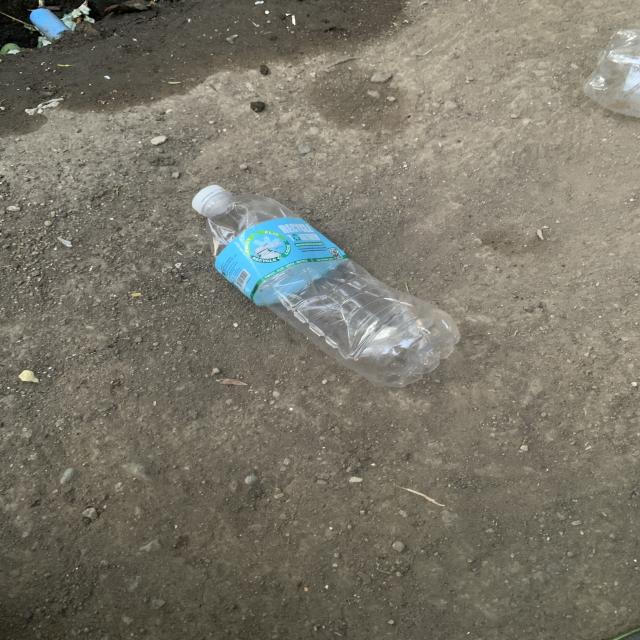Bottle: (192, 185, 460, 387)
